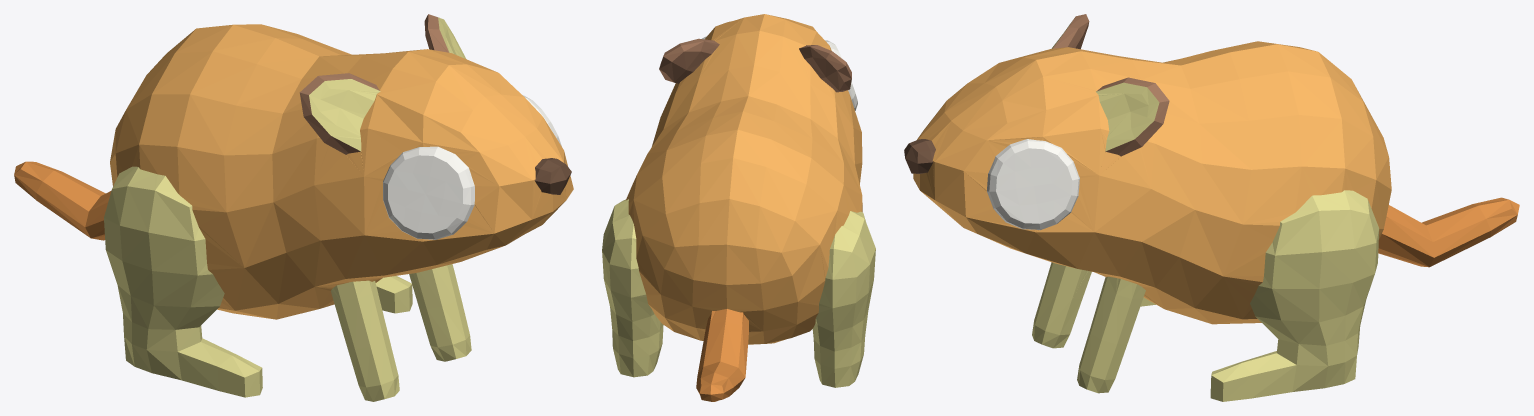
Rendered from swhamster.glb.
3 views of the same model, side by side, from view 1: azimuth 30°, elevation 25°; view 2: azimuth 150°, elevation 25°; view 3: azimuth 270°, elevation 25° (orthographic). The views are drawn at different scales.
Visible parts, largest first — view 1: Mesh_7; view 2: Mesh_7; view 3: Mesh_7.
Boxes of the visible parts, box(x1,y1,x2,y2) form: Mesh_7: box(14, 14, 573, 401); Mesh_7: box(602, 14, 875, 401); Mesh_7: box(904, 14, 1519, 401).
Size of the model in its own units: 0.5266 by 0.4974 by 0.8788.
Materials: 1 (1 with a texture image).
